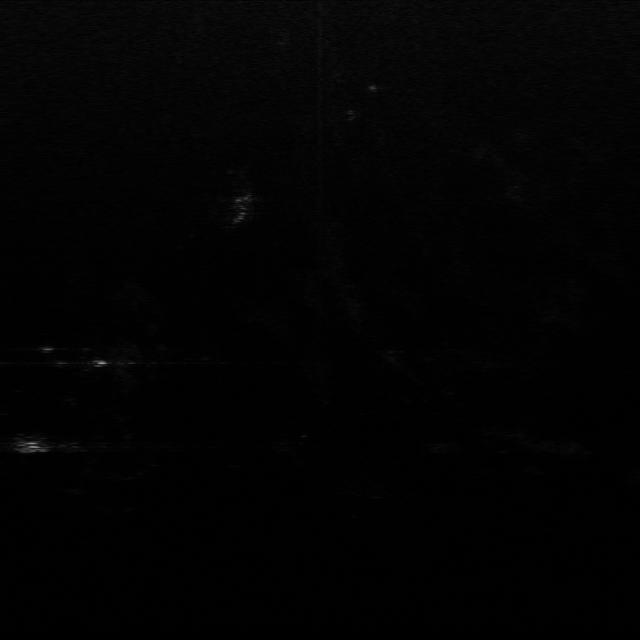rov: (11, 437, 48, 458)
